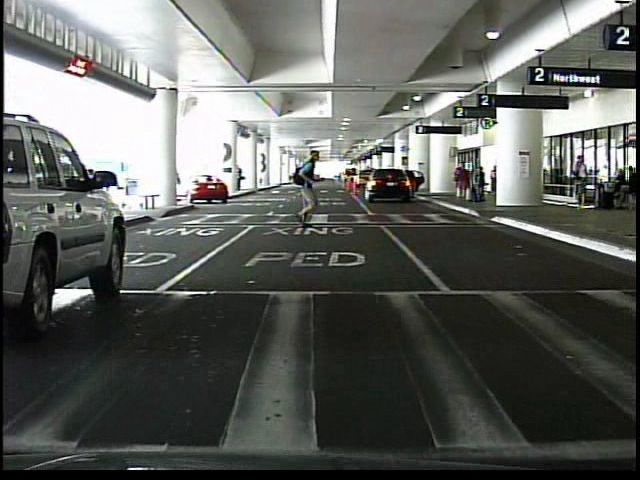person: (281, 147, 325, 227), (452, 159, 472, 201), (573, 158, 588, 210), (473, 166, 486, 201), (488, 165, 501, 194)
